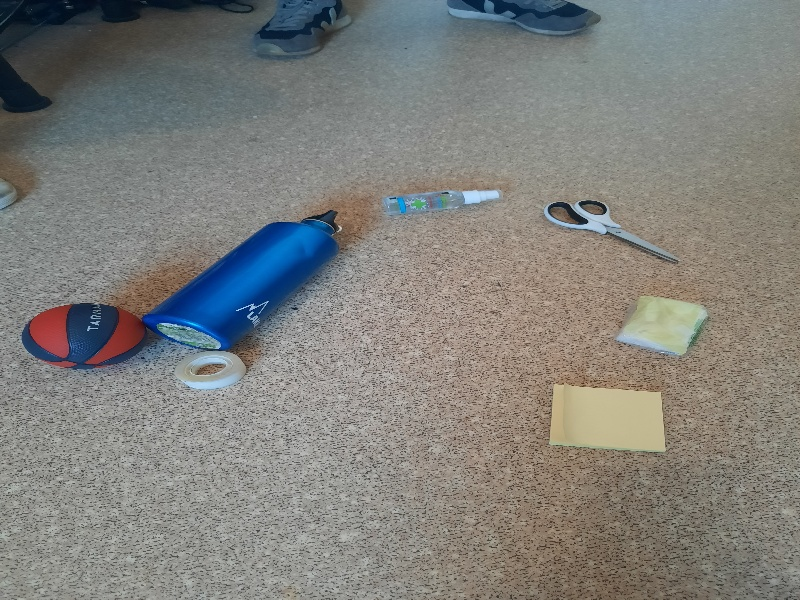ballon: (21, 303, 150, 370)
ciseaux: (543, 199, 684, 264)
gel: (384, 187, 504, 217)
gourde: (142, 207, 343, 351)
mouchoirs: (617, 292, 711, 357)
post-it: (545, 383, 669, 455)
scotch: (174, 351, 247, 391)
